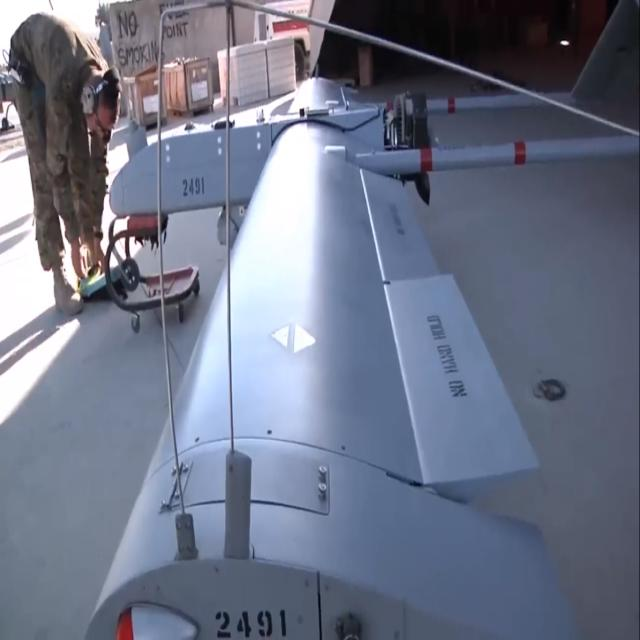drones: (102, 63, 475, 370)
